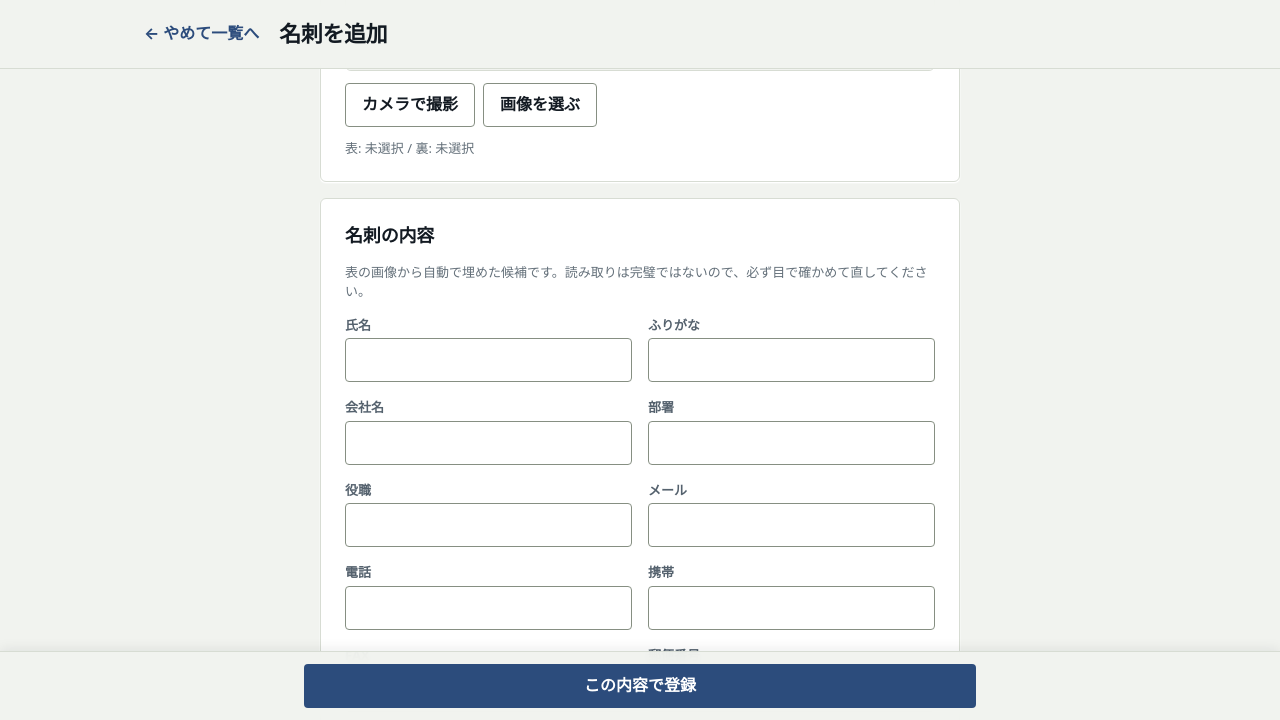
Test case: 登録画面 / 保存 › 保存中はボタンが無効になり二重送信できない
This screenshot has width=1280, height=720.
(page scrolled)
Type "鈴木 一郎" into the field labelled "氏名" at (488, 360), box [345,338,632,382]
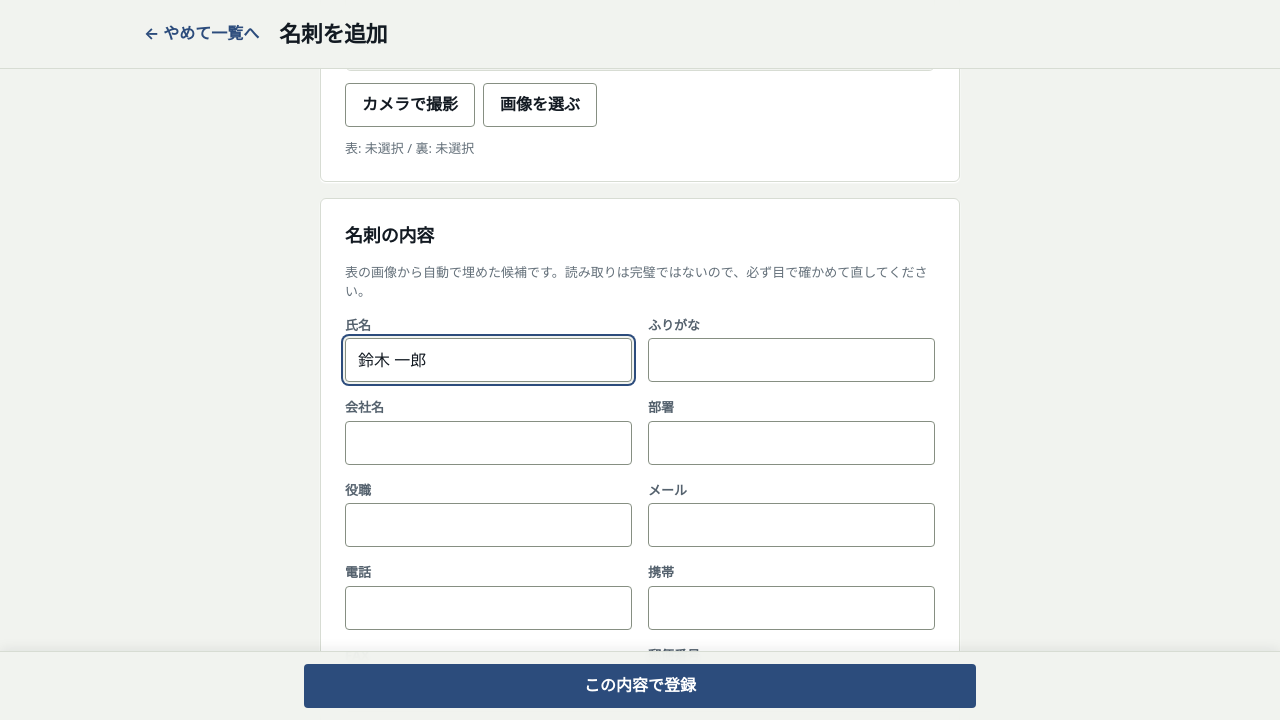
Click the button "この内容で登録" at (640, 686), box [304,664,976,708]
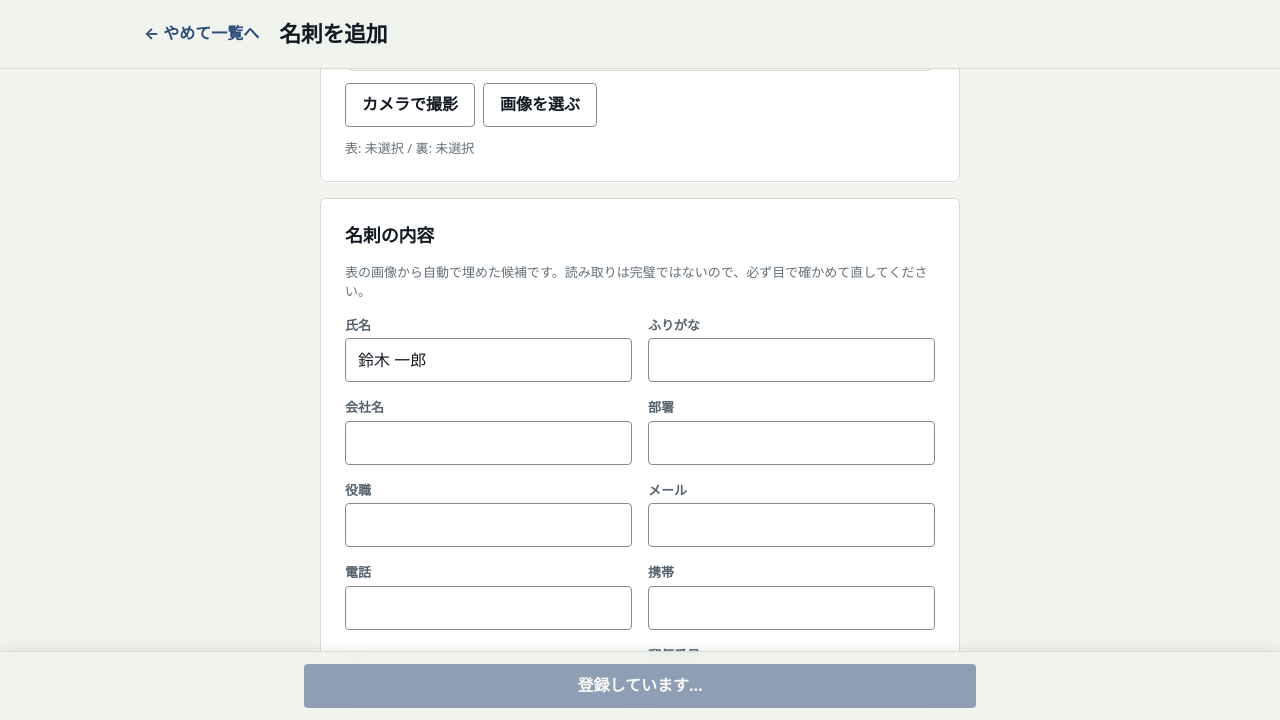
expect the button "登録しています…" is disabled: met, box [304,664,976,708]
